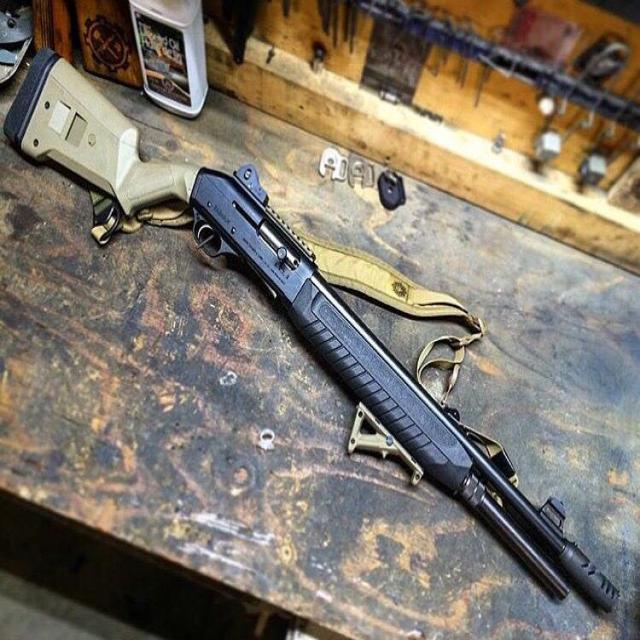ShotGun: (3, 49, 620, 618)
